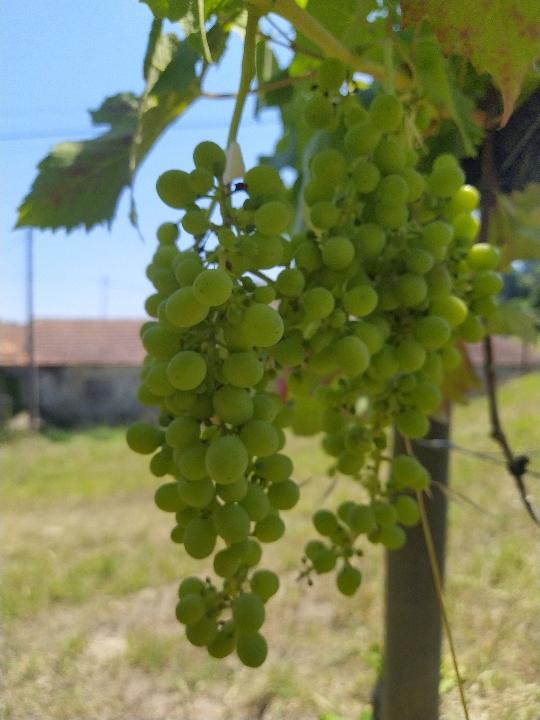grape: (288, 60, 504, 599), (124, 139, 302, 673)
